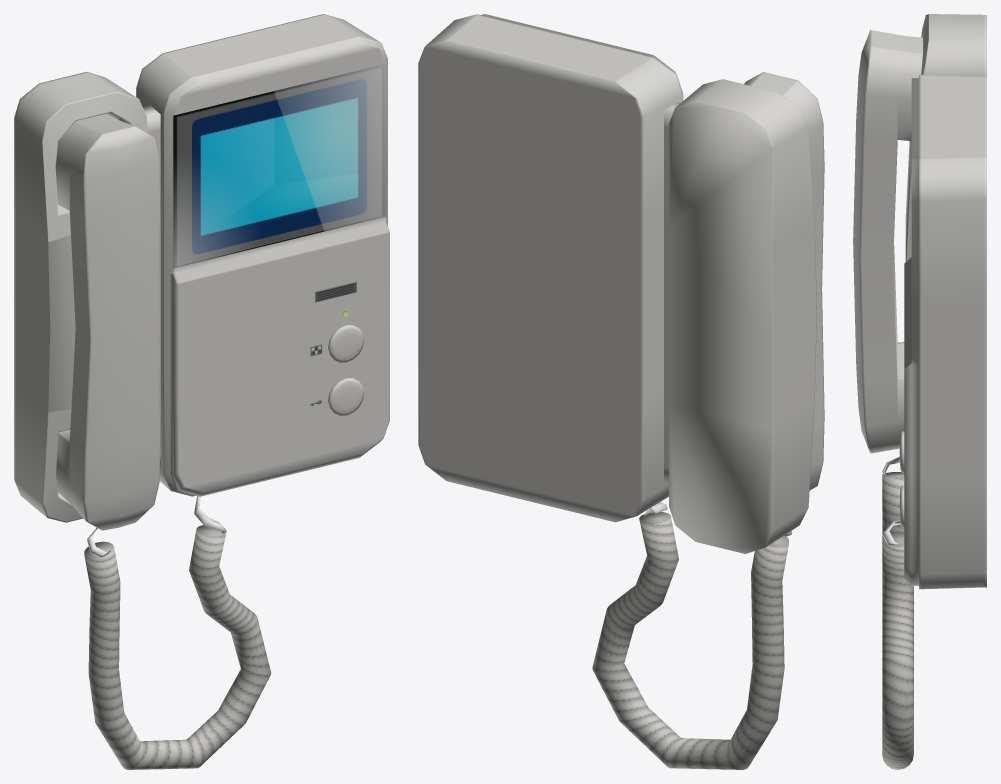
The model's file is sweethome3d-scopia-intercom-with-screen-138.glb.
The picture shows the model from 3 angles, left to right: view 1: azimuth 30°, elevation 25°; view 2: azimuth 150°, elevation 25°; view 3: azimuth 270°, elevation 25°; orthographic projection. The views are drawn at different scales.
Visible parts, largest first — view 1: Cube, Cube.001, Cylinder.001, Cylinder; view 2: Cube, Cube.001; view 3: Cube, Cube.001.
Part boxes in pixels (left/top/right/bottom): Cube: left=14, top=14, right=389, bottom=530; Cube.001: left=84, top=525, right=270, bottom=769; Cylinder.001: left=328, top=324, right=364, bottom=362; Cylinder: left=328, top=378, right=364, bottom=415; Cube: left=418, top=14, right=824, bottom=553; Cube.001: left=592, top=512, right=788, bottom=769; Cube: left=853, top=14, right=986, bottom=589; Cube.001: left=882, top=472, right=913, bottom=769.
Bounding box in the file's own units: 19.06 × 35.98 × 6.25.
5 materials, 2 textured.
